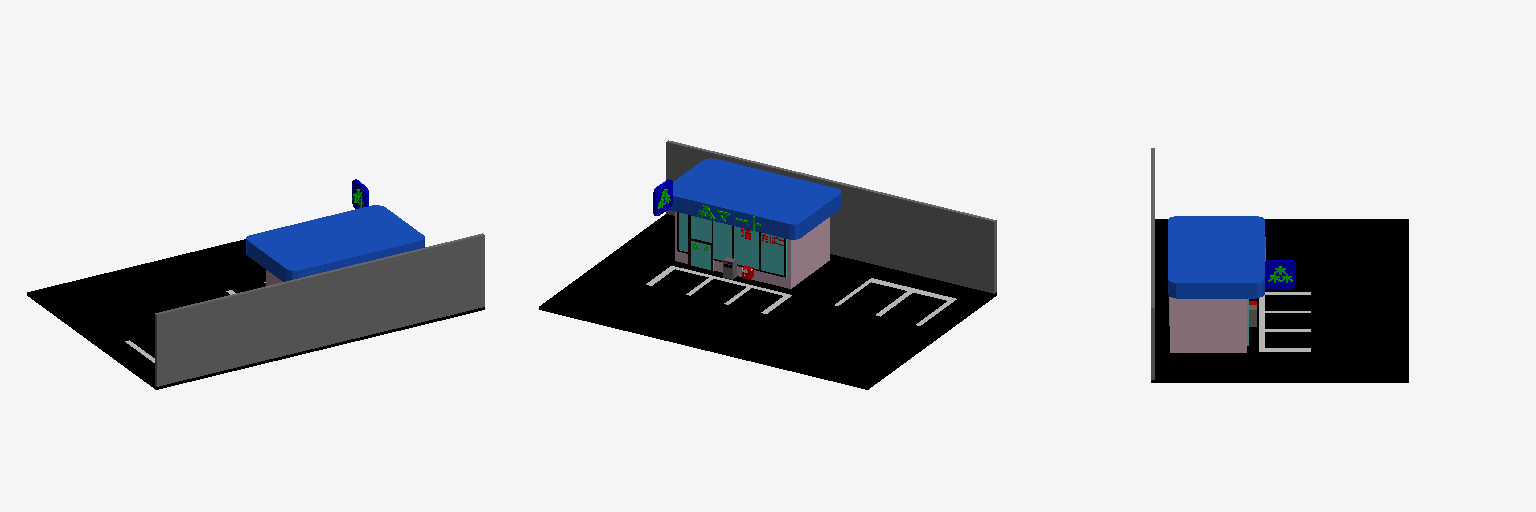
Rendered from konbinihei.obj.
The picture shows the model from 3 angles: view 1: azimuth 30°, elevation 25°; view 2: azimuth 150°, elevation 25°; view 3: azimuth 270°, elevation 25°; orthographic projection.
Visible parts, largest first — view 1: 立方体_立方体.001, 立方体.016_立方体.019, Cube.001; view 2: 立方体.016_立方体.019, Cube.001, 立方体_立方体.001; view 3: 立方体.016_立方体.019, Cube.001, 立方体_立方体.001.
Part boxes in pixels (x1,y1,x2,y2): 立方体_立方体.001: (155, 233, 484, 386); 立方体.016_立方体.019: (27, 239, 484, 389); Cube.001: (246, 179, 424, 285); 立方体.016_立方体.019: (539, 214, 996, 389); Cube.001: (653, 158, 840, 288); 立方体_立方体.001: (666, 140, 996, 293); 立方体.016_立方体.019: (1151, 219, 1408, 382); Cube.001: (1168, 216, 1295, 352); 立方体_立方体.001: (1151, 148, 1154, 379).
Size of the model in its own units: 9.53 by 2.58 by 6.49.